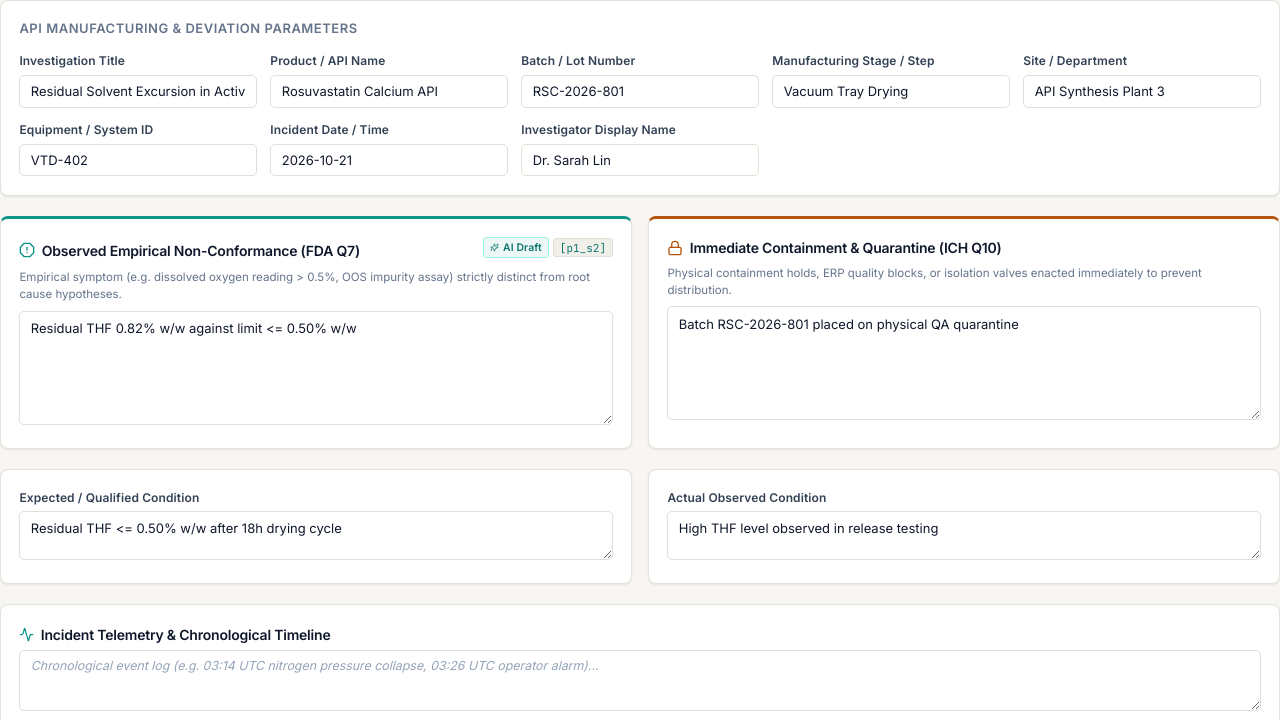
Test: TraceRoot Frontend RTL Verification Pass › A8 & E4: Clicking citation opens Evidence Excerpt modal with exact verbatim quote and page/paragraph
Click the button "[p1_s2]".
click(583, 248)  # box left=553, top=238, right=613, bottom=257
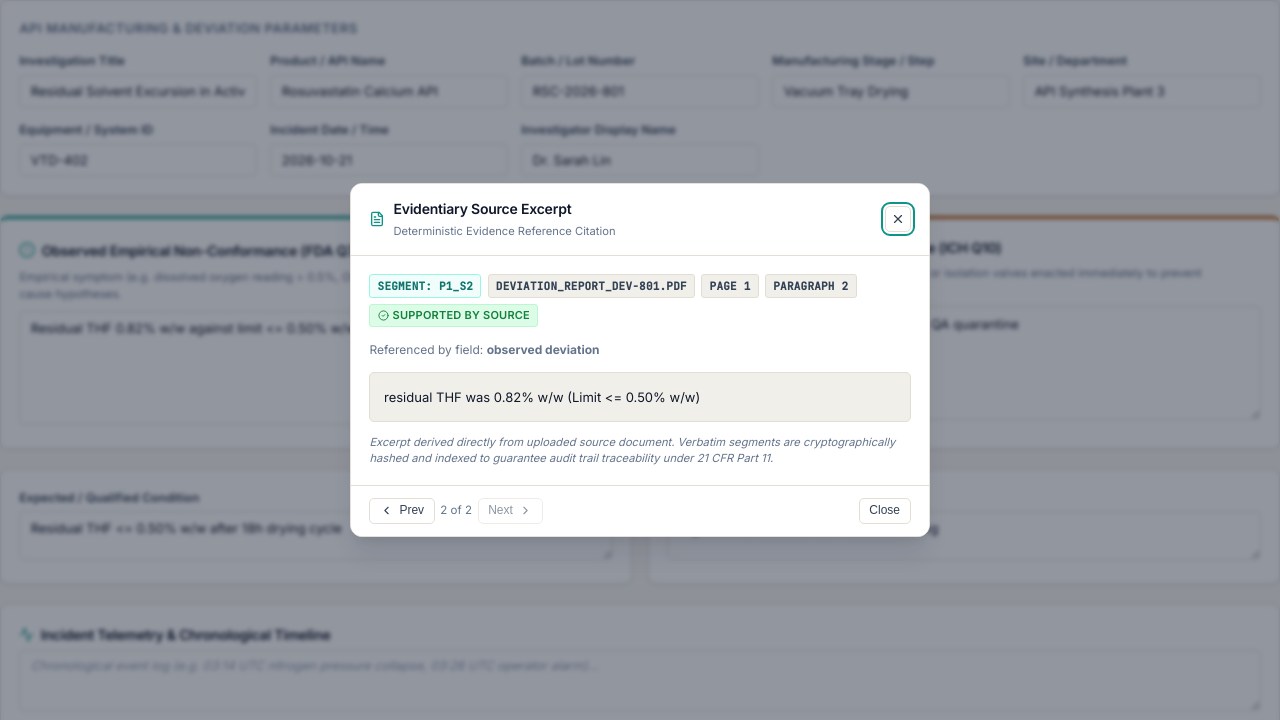
Expected: the heading "Evidentiary Source Excerpt" is shown, left=393, top=200, right=571, bottom=217
Expected: the text "Segment: p1_s2" is shown, left=369, top=274, right=481, bottom=298
Expected: the text "Page 1" is shown, left=701, top=274, right=759, bottom=298
